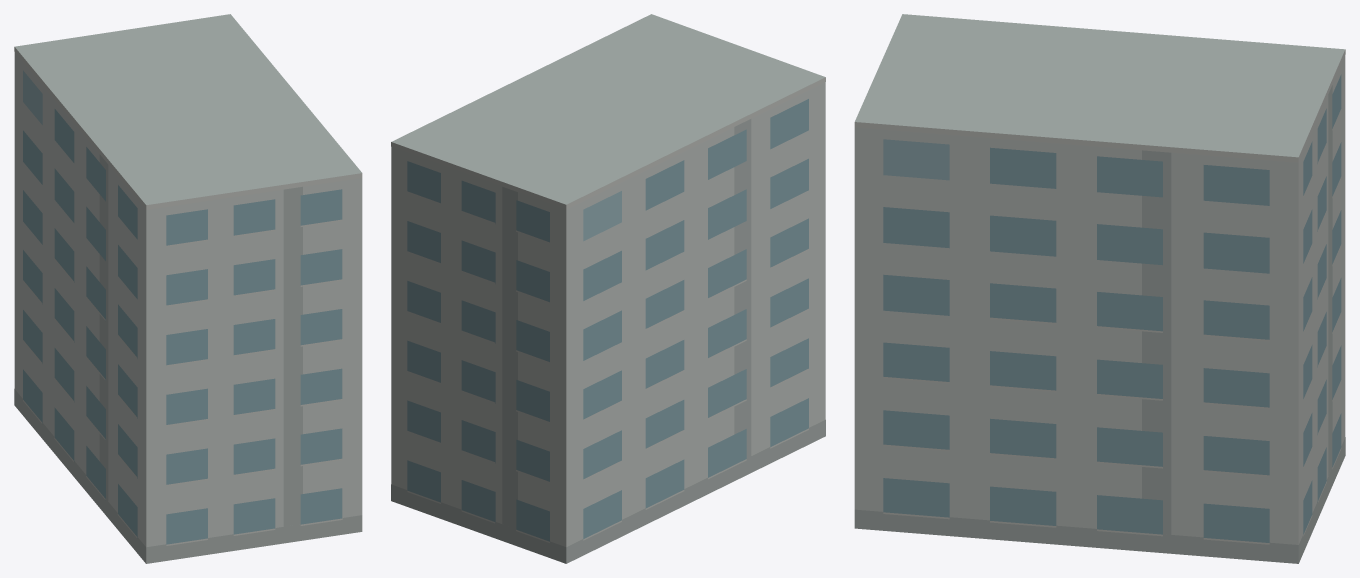
The model's file is survey-upis-32754771.glb.
The picture shows the model from 3 angles, left to right: view 1: azimuth 30°, elevation 25°; view 2: azimuth 150°, elevation 25°; view 3: azimuth 270°, elevation 25°; orthographic projection. The views are drawn at different scales.
Visible parts, largest first — view 1: survey-upis-32754771.tmp; view 2: survey-upis-32754771.tmp; view 3: survey-upis-32754771.tmp.
Part boxes in pixels (x1,y1,x2,y2): survey-upis-32754771.tmp: (14,14,362,563); survey-upis-32754771.tmp: (391,14,825,563); survey-upis-32754771.tmp: (854,14,1345,563).
Size of the model in its own units: 13.62 by 18 by 19.7.
